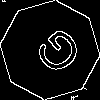G: (25, 25, 85, 84)
